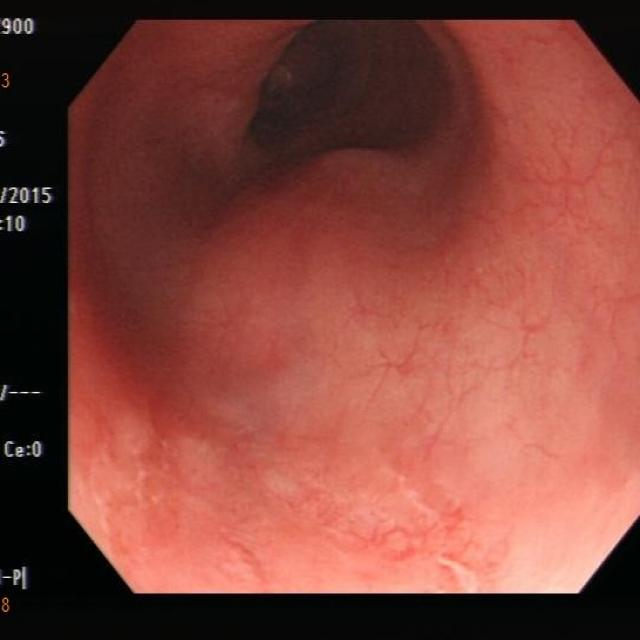E: (256, 21, 450, 152)
S: (2, 186, 55, 208), (3, 439, 45, 462), (2, 382, 42, 404), (2, 565, 30, 593), (3, 18, 38, 39), (2, 216, 28, 237), (2, 72, 13, 91), (2, 597, 13, 616), (2, 129, 8, 152)
